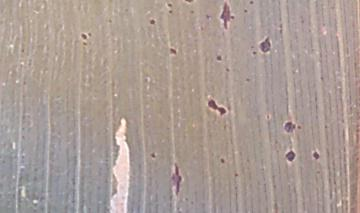tarspot: (167, 159, 185, 195), (205, 95, 228, 122), (219, 1, 234, 33), (257, 36, 275, 56), (281, 118, 296, 135), (284, 147, 296, 166), (311, 148, 321, 162), (147, 17, 159, 28), (167, 46, 178, 57), (214, 53, 224, 63), (219, 156, 227, 165), (243, 76, 252, 84), (263, 112, 271, 121), (318, 74, 326, 83), (203, 13, 212, 21), (19, 47, 28, 55), (296, 123, 303, 133), (149, 149, 156, 159), (189, 8, 197, 16), (21, 79, 28, 88), (321, 123, 331, 129), (183, 1, 197, 5), (165, 1, 173, 8), (80, 32, 87, 40), (106, 17, 114, 24), (250, 50, 259, 56), (144, 76, 150, 85), (224, 66, 231, 73), (167, 8, 174, 15), (233, 171, 239, 178), (123, 7, 130, 13), (247, 1, 257, 5), (80, 41, 88, 46), (243, 8, 248, 15), (87, 31, 92, 37)
